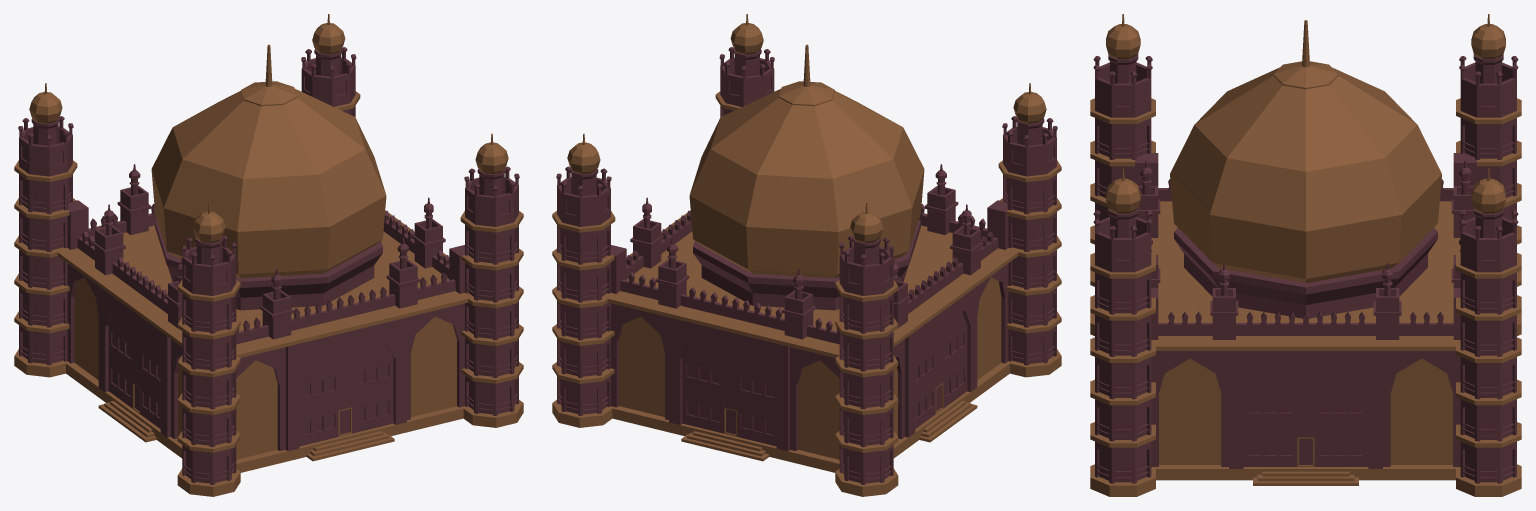
The model's file is hindu-tomb-dome.fbx.
The picture shows the model from 3 angles, left to right: view 1: azimuth 30°, elevation 25°; view 2: azimuth 150°, elevation 25°; view 3: azimuth 270°, elevation 25°; orthographic projection. The views are drawn at different scales.
Visible parts, largest first — view 1: hindu-tomb-dome; view 2: hindu-tomb-dome; view 3: hindu-tomb-dome.
Part boxes in pixels (<box>): hindu-tomb-dome: <box>14,14,523,496</box>; hindu-tomb-dome: <box>552,14,1061,496</box>; hindu-tomb-dome: <box>1090,14,1521,496</box>.
Bounding box in the file's own units: 27.72 × 27.32 × 27.72.
